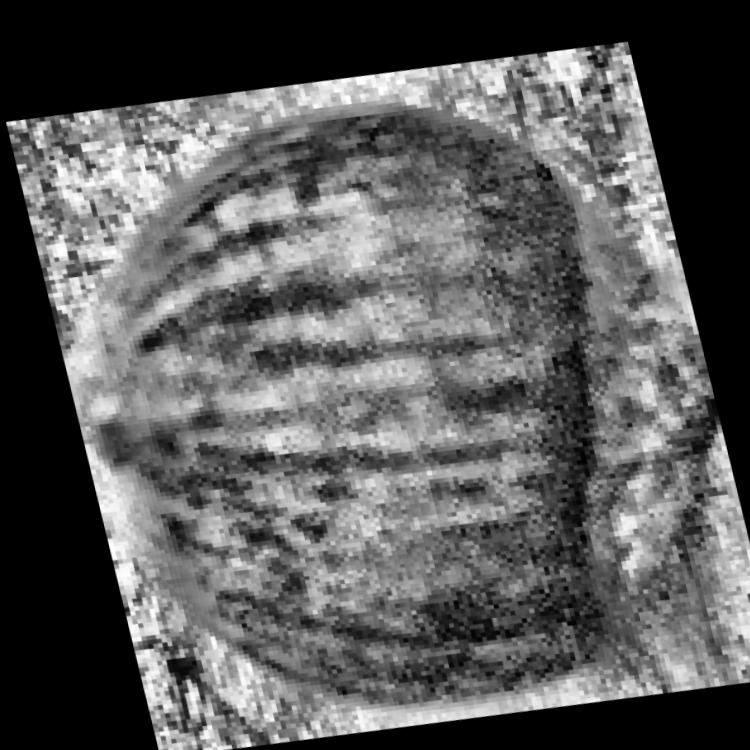qualityHazelnut: (0, 4, 750, 750)
